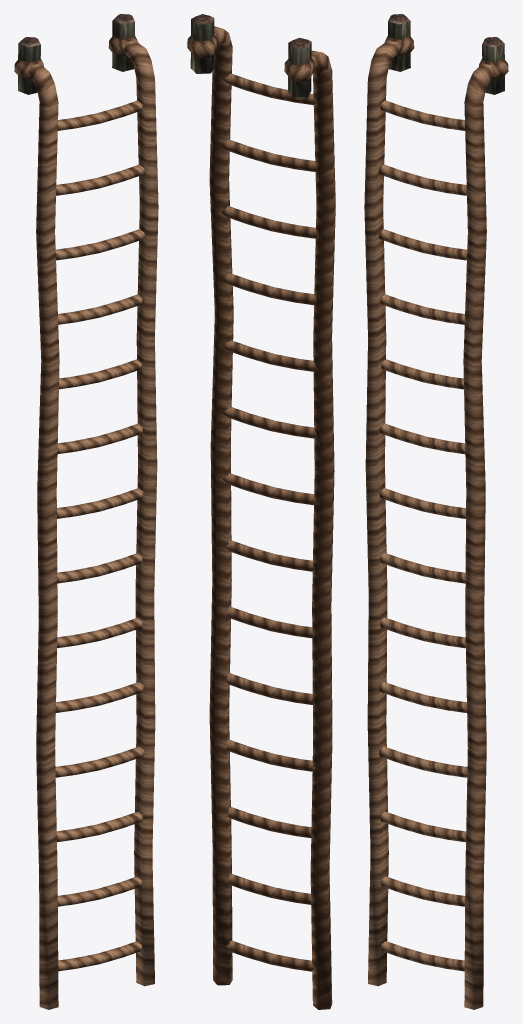
Rendered from rope-ladder-03.fbx.
3 renders of one model, left to right at view 1: azimuth 30°, elevation 25°; view 2: azimuth 150°, elevation 25°; view 3: azimuth 330°, elevation 25°, orthographic. The views are drawn at different scales.
Parts seen in each view (by area): view 1: Cylinder.076; view 2: Cylinder.076; view 3: Cylinder.076.
Part boxes in pixels (x1=…): Cylinder.076: x1=14, y1=14, x2=158, y2=1009; Cylinder.076: x1=187, y1=14, x2=335, y2=1009; Cylinder.076: x1=364, y1=14, x2=508, y2=1009.
Size of the model in its own units: 0.9763 by 7.35 by 0.471.
